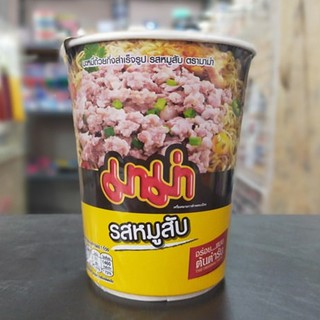PaperCup: (56, 29, 260, 303)
